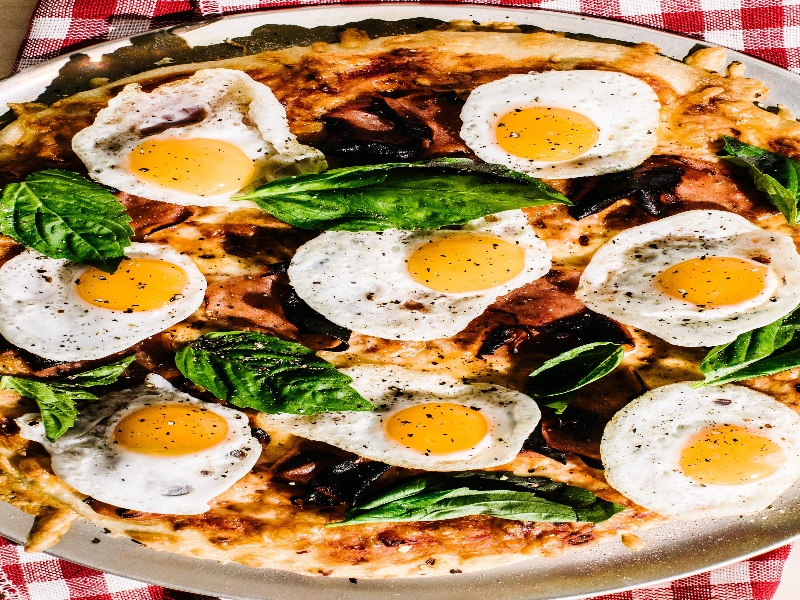oeuf: (355, 375, 512, 478), (116, 110, 257, 216), (361, 230, 546, 301), (59, 244, 203, 334), (654, 407, 794, 492), (648, 242, 786, 328), (107, 395, 243, 478), (482, 99, 617, 168)
